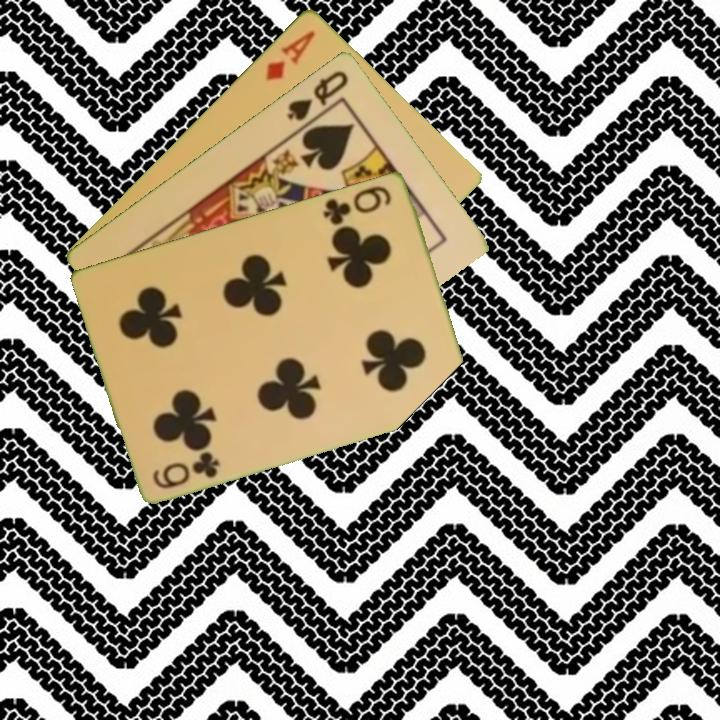6c: (320, 181, 395, 228), (149, 447, 223, 492)
Ad: (262, 26, 319, 84)
Qs: (283, 66, 351, 123)
